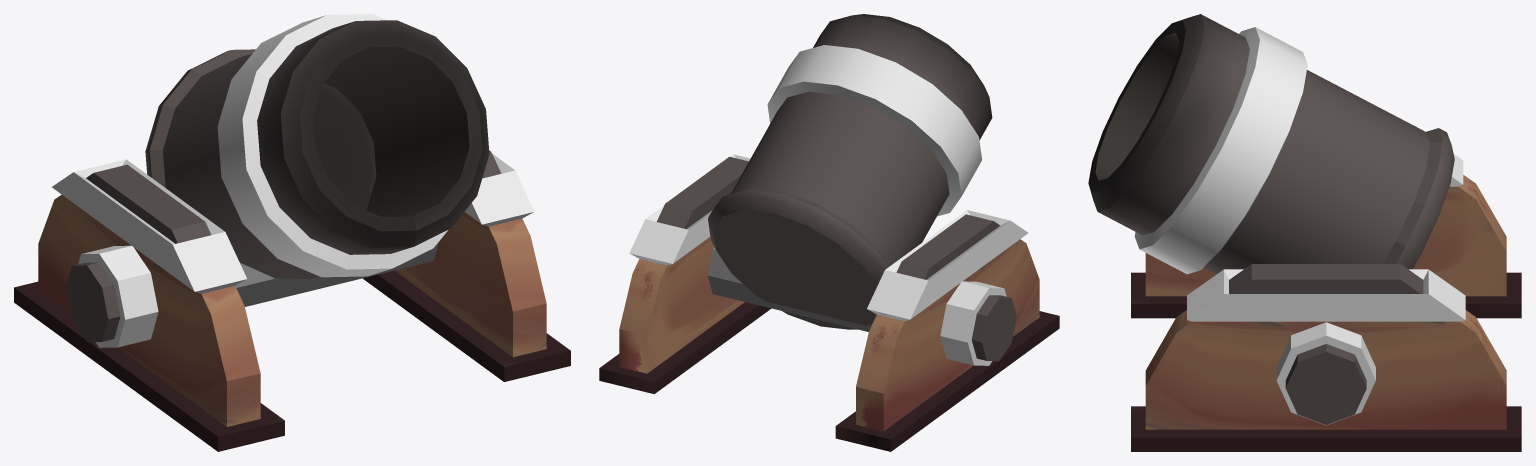
File: Mortar.fbx
3 renders of one model, left to right at view 1: azimuth 30°, elevation 25°; view 2: azimuth 150°, elevation 25°; view 3: azimuth 270°, elevation 25°, orthographic. The views are drawn at different scales.
Visible parts, largest first — view 1: MortarCannon2; view 2: MortarCannon2; view 3: MortarCannon2.
Boxes of the visible parts, x1=… form: MortarCannon2: x1=14, y1=14, x2=570, y2=451; MortarCannon2: x1=599, y1=14, x2=1059, y2=451; MortarCannon2: x1=1088, y1=14, x2=1521, y2=451.
Size of the model in its own units: 3.32 by 2.78 by 3.17.
